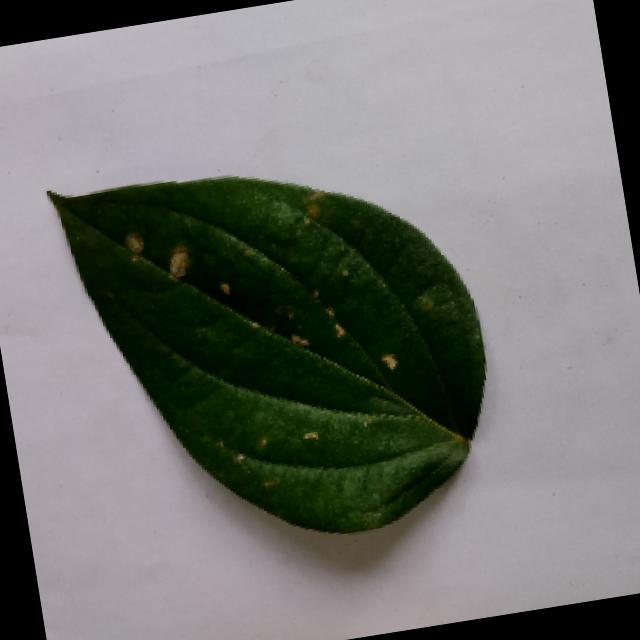pollu-disease: (33, 120, 514, 574)
